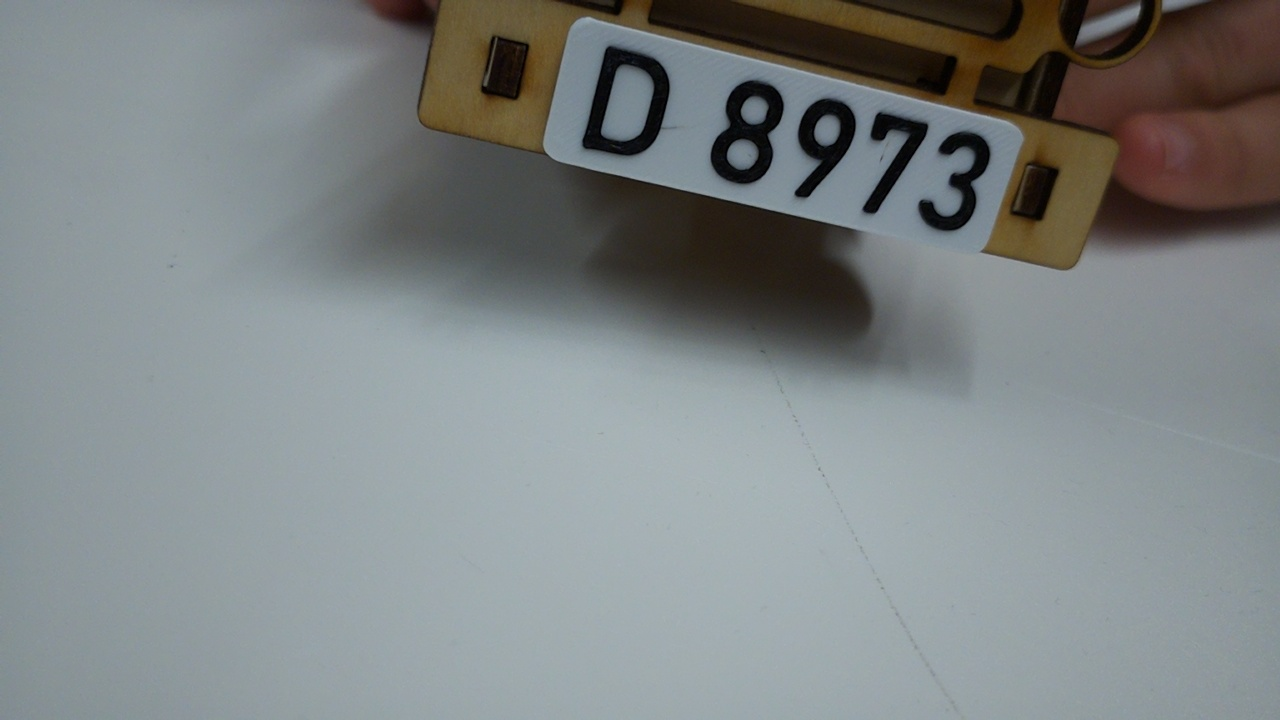license_plate: (540, 14, 1028, 258)
